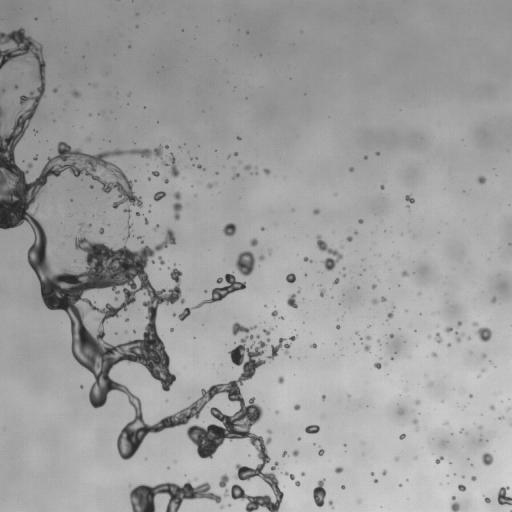droplet: (316, 235, 343, 270), (235, 251, 255, 276), (162, 153, 179, 177), (497, 486, 511, 505), (476, 327, 492, 342), (222, 223, 236, 236), (286, 293, 297, 308), (481, 452, 493, 465), (451, 496, 460, 511), (79, 222, 91, 233), (153, 191, 165, 201), (305, 425, 319, 433), (286, 273, 295, 283), (455, 331, 463, 342), (405, 195, 414, 203), (444, 326, 454, 333), (435, 333, 442, 343), (478, 176, 486, 184), (263, 328, 272, 335), (250, 238, 257, 246), (458, 484, 466, 491), (334, 467, 343, 473), (72, 90, 79, 97), (263, 168, 270, 175), (483, 496, 490, 503), (387, 311, 393, 319), (435, 457, 443, 463), (303, 257, 312, 262), (158, 257, 164, 264), (401, 270, 408, 276), (364, 344, 370, 351), (374, 362, 381, 368), (318, 448, 324, 455), (320, 288, 325, 296), (333, 278, 339, 284), (294, 404, 300, 410), (292, 450, 298, 456), (244, 165, 251, 170), (152, 171, 159, 176), (278, 376, 283, 383), (328, 500, 333, 507), (233, 173, 239, 178), (313, 209, 319, 214), (99, 228, 104, 234), (380, 296, 386, 301), (491, 297, 496, 303), (310, 343, 316, 348), (399, 434, 405, 439), (153, 225, 158, 230), (347, 236, 352, 241), (259, 255, 264, 260), (371, 284, 376, 289), (432, 352, 437, 357), (282, 451, 287, 456), (457, 321, 461, 327), (472, 322, 478, 326), (14, 84, 18, 89), (33, 155, 37, 160), (28, 163, 32, 168), (197, 164, 202, 168), (164, 178, 168, 183), (144, 218, 148, 223), (358, 219, 363, 223), (372, 299, 377, 303), (415, 400, 420, 404), (490, 405, 494, 410), (382, 470, 386, 475), (471, 476, 476, 480), (53, 88, 57, 92), (349, 167, 353, 171), (380, 185, 384, 189), (336, 325, 340, 329), (366, 336, 370, 340), (444, 421, 448, 425), (341, 485, 345, 489), (102, 220, 105, 225), (399, 409, 402, 414), (34, 129, 37, 133), (237, 136, 240, 140), (89, 185, 93, 188), (138, 236, 141, 240), (481, 368, 485, 371), (322, 395, 325, 399), (459, 429, 463, 432), (267, 430, 271, 433), (234, 152, 237, 155), (376, 152, 379, 155), (364, 156, 367, 159), (254, 171, 257, 174), (261, 227, 264, 230), (125, 318, 128, 321), (390, 334, 393, 337), (447, 343, 450, 346), (469, 394, 472, 397), (301, 472, 304, 475), (374, 479, 377, 482), (220, 505, 223, 508), (35, 208, 37, 211), (137, 212, 139, 215), (354, 231, 357, 233), (298, 289, 300, 292), (204, 290, 207, 292), (483, 354, 485, 357), (478, 374, 480, 377), (429, 382, 432, 384), (80, 386, 83, 388), (348, 394, 350, 397), (507, 408, 510, 410), (275, 411, 278, 413), (500, 416, 502, 419), (395, 458, 398, 460), (371, 472, 373, 475), (148, 178, 150, 180), (70, 199, 72, 201), (115, 298, 117, 300), (356, 332, 358, 334), (468, 337, 470, 339), (377, 340, 379, 342), (298, 438, 300, 440), (462, 476, 464, 478), (399, 484, 401, 486), (358, 500, 360, 502), (228, 504, 230, 506)
ligament: (0, 32, 278, 511), (177, 273, 246, 320), (129, 480, 221, 511), (267, 335, 297, 360), (313, 479, 325, 506), (172, 191, 182, 220), (284, 472, 300, 486), (271, 310, 283, 319), (0, 85, 9, 96), (412, 419, 418, 429), (207, 183, 217, 188)
